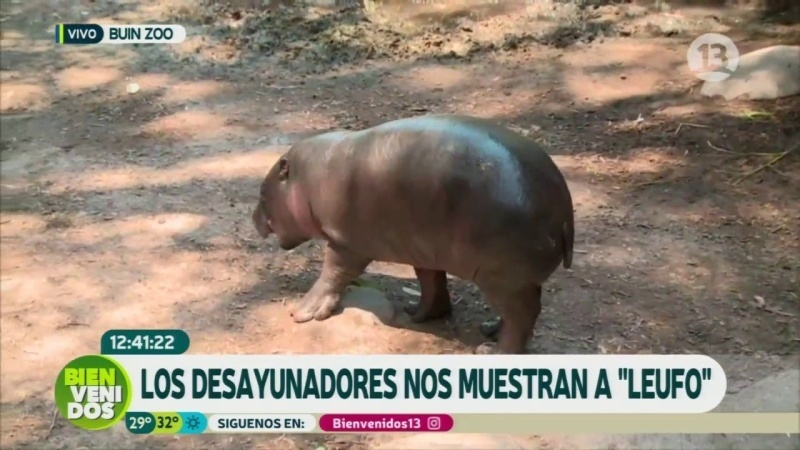hipopotamo: (224, 106, 594, 356)
